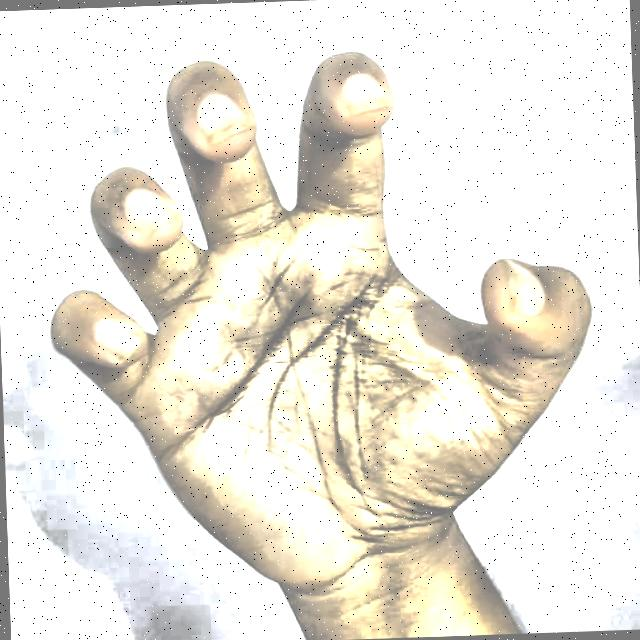Ja: (21, 19, 611, 640)
